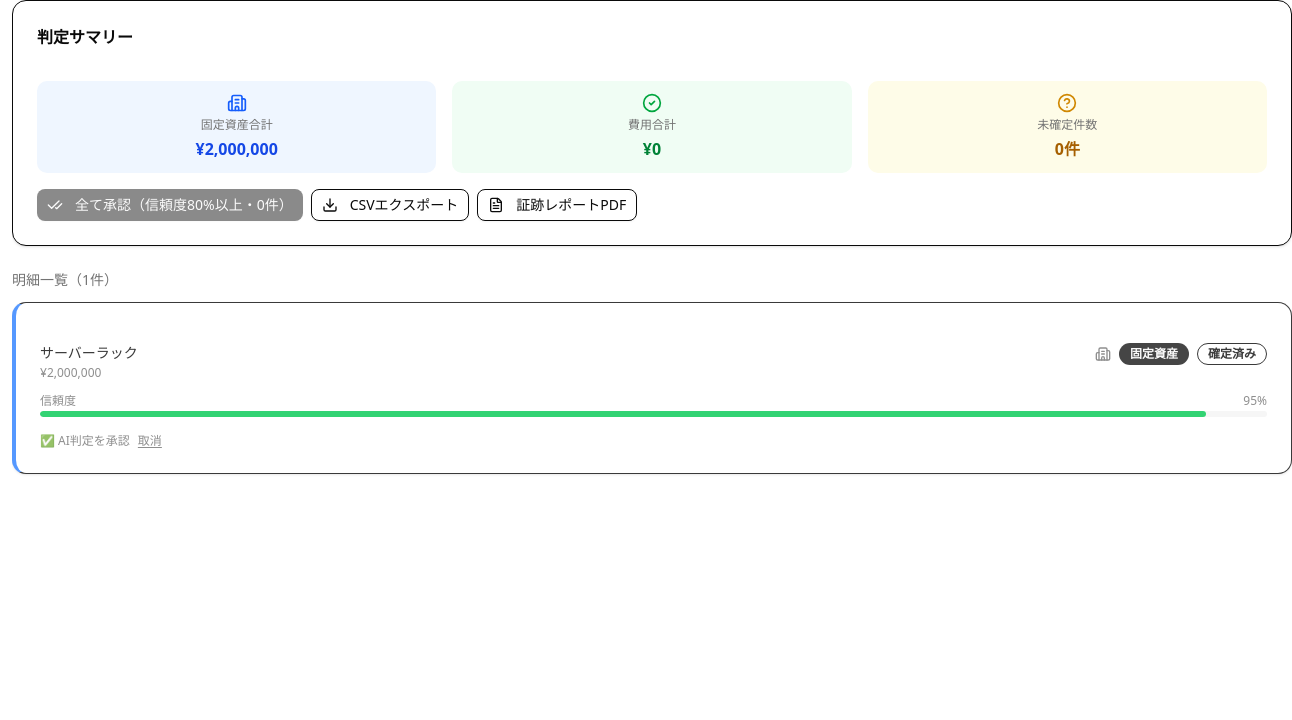
Scenario: PDFReviewSection — PDF report (F-12) › エラー時にアラートUIが表示される (CR W-3対応: cmd_152k_sub3)
Click the button with test id "btn-pdf-report" at [557, 205], box [477,189,637,221]
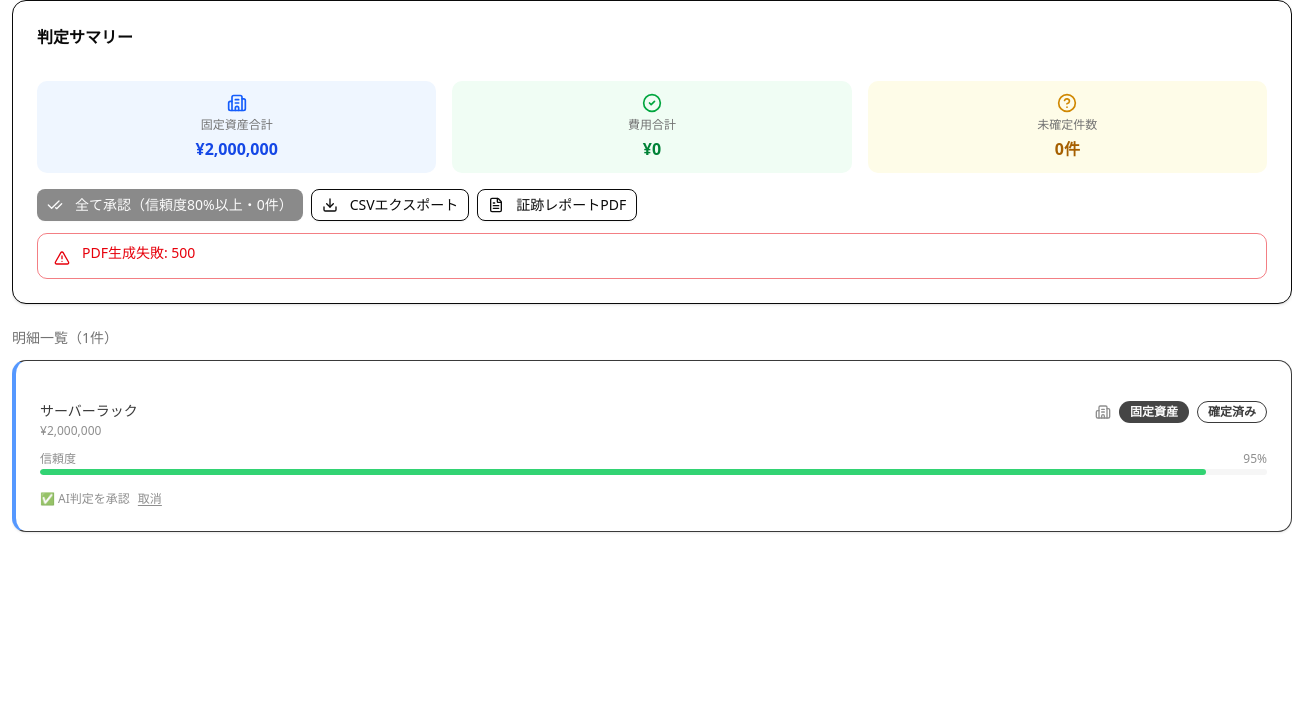
Now the message "PDF生成失敗: 500" is shown, box [37,233,1267,279]
Now the message with test id "pdf-error-alert" reads "PDF生成失敗: 500", box [82,243,195,262]
